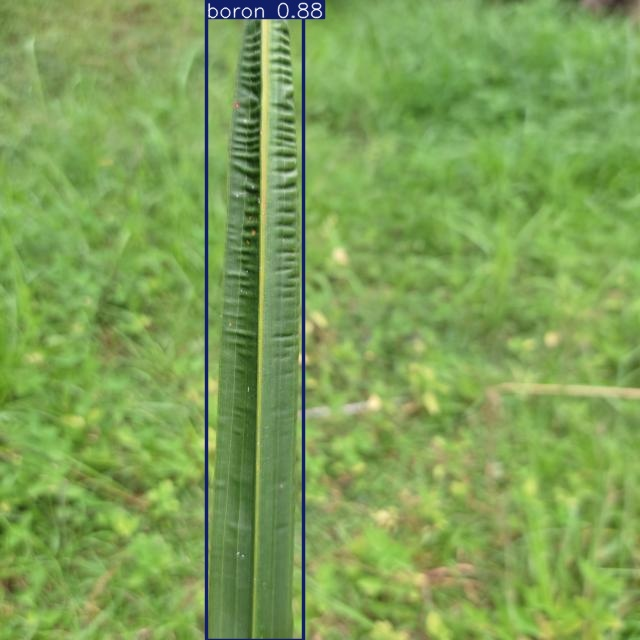nitrogen: (206, 1, 303, 640)
